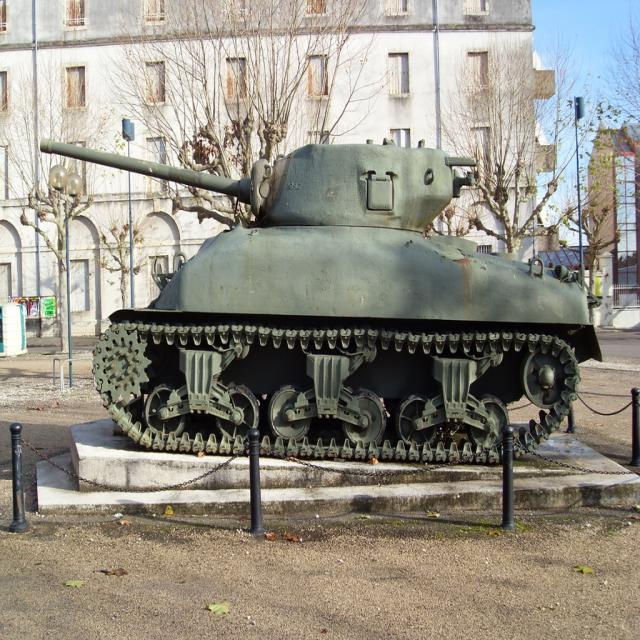tank: (39, 94, 604, 464)
